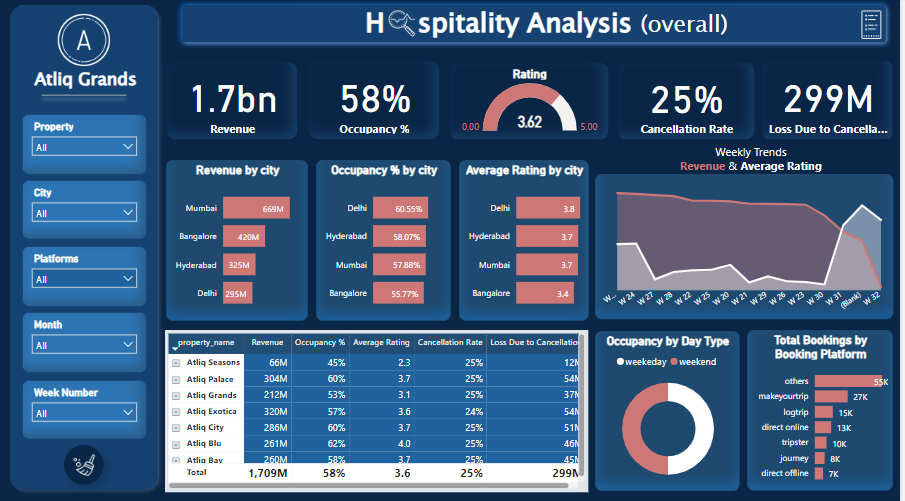

The page's visual inventory and layout, read from the dashboard file:
{"tool":"powerbi","page":{"name":"Overall analysis","canvas":[1280,720],"ordinal":0},"visuals":[{"type":"textbox","box":[507.7,2.9,542.9,84.3],"z":0,"group":"g1"},{"type":"card","fields":{"Values":["All measures.Cancellation Rate"]},"box":[878.6,90,195.7,111.4],"z":0},{"type":"textbox","box":[35.7,91.4,180,72.9],"z":0,"group":"g4"},{"type":"actionButton","box":[95.7,632.9,55.7,55.7],"z":0,"group":"g3"},{"type":"card","fields":{"Values":["All measures.Revenue"]},"box":[239.5,89.3,187.1,112],"z":1000},{"type":"shape","box":[53.7,114.1,139.5,46.3],"z":1000,"group":"g4"},{"type":"image","box":[101.4,641.5,45.7,40],"z":1000,"group":"g3"},{"type":"gauge","title":"Rating","fields":{"Y":["All measures.Average Rating"],"MinValue":["All measures.Min Rating"],"MaxValue":["All measures.Max Rating"]},"box":[640.6,90.7,226.8,110.6],"z":2000},{"type":"card","fields":{"Values":["All measures.Occupancy %"]},"box":[440.8,89.3,187.1,112],"z":3000},{"type":"shape","box":[8.6,0,230,707.1],"z":4000,"group":"g2"},{"type":"shape","box":[252.9,0,1017.1,72.9],"z":4000},{"type":"slicer","fields":{"Values":["dim_hotels.property_name"]},"box":[35.7,164.3,177.1,85.7],"z":5000,"group":"g2"},{"type":"barChart","fields":{"Category":["dim_hotels.city"],"Y":["All measures.Revenue"]},"box":[239.4,229.6,201.3,228.2],"z":5000},{"type":"barChart","fields":{"Y":["All measures.Average Rating"],"Category":["dim_hotels.city"]},"box":[655.4,230,183.8,227.7],"z":6000},{"type":"slicer","fields":{"Values":["dim_hotels.city"]},"box":[35.7,258.6,177.1,84.3],"z":6000,"group":"g2"},{"type":"barChart","fields":{"Y":["All measures.Occupancy %"],"Category":["dim_hotels.city"]},"box":[452,229.6,191.3,228.2],"z":7000},{"type":"slicer","fields":{"Values":["dim_date.week no"]},"box":[35.7,541.4,177.1,84.3],"z":7000,"group":"g2"},{"type":"areaChart","fields":{"Category":["dim_date.week no"],"Y":["All measures.Revenue"],"Y2":["All measures.Average Rating"]},"box":[847.5,250,422.5,205.8],"z":8000},{"type":"slicer","fields":{"Values":["dim_platform.Platforms"]},"box":[35.7,351.4,177.1,85.7],"z":8000,"group":"g2"},{"type":"card","fields":{"Values":["All measures.Loss Due to Cancellation"]},"box":[1084.3,89.3,185.7,112],"z":9000},{"type":"slicer","fields":{"Values":["dim_date.mmm yy"]},"box":[35.7,445.7,177.1,85.7],"z":9000,"group":"g2"},{"type":"pivotTable","fields":{"Rows":["dim_hotels.property_name","dim_hotels.city"],"Values":["All measures.Revenue","All measures.Occupancy %","All measures.Average Rating","All measures.Cancellation Rate","All measures.Loss Due to Cancellation"]},"box":[238.6,470,600,230],"z":10000},{"type":"barChart","title":"Total Bookings by Booking Platform","fields":{"Category":["fact_bookings.booking_platform"],"Y":["All measures.Total Bookings"]},"box":[1063,470.6,206.9,228.2],"z":11000},{"type":"textbox","box":[878.7,201.3,379.8,73.7],"z":12000},{"type":"donutChart","title":"Occupancy by Day Type","fields":{"Category":["dim_date.day_type"],"Y":["All measures.Occupancy %"]},"box":[847.9,471.4,205,227.1],"z":13000},{"type":"group","id":"g1","title":"Group 2","box":[507.7,2.9,542.9,84.3],"z":14000},{"type":"image","box":[540.9,9.1,65.5,55.5],"z":15000},{"type":"image","box":[1206,11,64,53],"z":16000},{"type":"group","id":"g2","title":"Group 3","box":[8.6,0,230,707.1],"z":17000},{"type":"group","id":"g3","title":"Group 1","box":[95.7,632.9,55.7,55.7],"z":17000,"group":"g2"},{"type":"image","box":[67.2,0,112.9,118.6],"z":20000,"group":"g2"},{"type":"group","id":"g4","title":"Group 2","box":[35.7,91.4,180,72.9],"z":21000,"group":"g2"}]}

Visuals, with their boxes in screenshot pixels (x1, y1, x2, y2), scaled from the page's 1280x720 canvas onto the 905x501 screenshot:
textbox: detection(359, 2, 743, 61)
card - All measures.Cancellation Rate: detection(621, 63, 760, 140)
textbox: detection(25, 64, 153, 114)
actionButton: detection(68, 440, 107, 479)
card - All measures.Revenue: detection(169, 62, 302, 140)
shape: detection(38, 79, 137, 112)
image: detection(72, 446, 104, 474)
"Rating" gauge: detection(453, 63, 613, 140)
card - All measures.Occupancy %: detection(312, 62, 444, 140)
shape: detection(6, 0, 169, 492)
shape: detection(179, 0, 898, 51)
slicer - dim_hotels.property_name: detection(25, 114, 150, 174)
barChart - dim_hotels.city x All measures.Revenue: detection(169, 160, 312, 319)
barChart - All measures.Average Rating x dim_hotels.city: detection(463, 160, 593, 318)
slicer - dim_hotels.city: detection(25, 180, 150, 239)
barChart - All measures.Occupancy % x dim_hotels.city: detection(320, 160, 455, 319)
slicer - dim_date.week no: detection(25, 377, 150, 435)
areaChart - dim_date.week no x All measures.Revenue: detection(599, 174, 898, 317)
slicer - dim_platform.Platforms: detection(25, 245, 150, 304)
card - All measures.Loss Due to Cancellation: detection(767, 62, 898, 140)
slicer - dim_date.mmm yy: detection(25, 310, 150, 370)
pivotTable - dim_hotels.property_name x dim_hotels.city: detection(169, 327, 593, 487)
"Total Bookings by Booking Platform" barChart: detection(752, 327, 898, 486)
textbox: detection(621, 140, 890, 191)
"Occupancy by Day Type" donutChart: detection(599, 328, 744, 486)
"Group 2" group: detection(359, 2, 743, 61)
image: detection(382, 6, 429, 45)
image: detection(853, 8, 898, 45)
"Group 3" group: detection(6, 0, 169, 492)
"Group 1" group: detection(68, 440, 107, 479)
image: detection(48, 0, 127, 83)
"Group 2" group: detection(25, 64, 153, 114)
